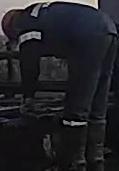gloves: (19, 93, 37, 117)
helmet: (0, 9, 24, 41)
vest: (19, 1, 118, 59)
